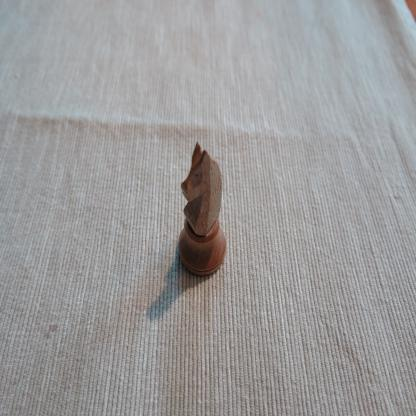white-knight: (177, 140, 227, 278)
